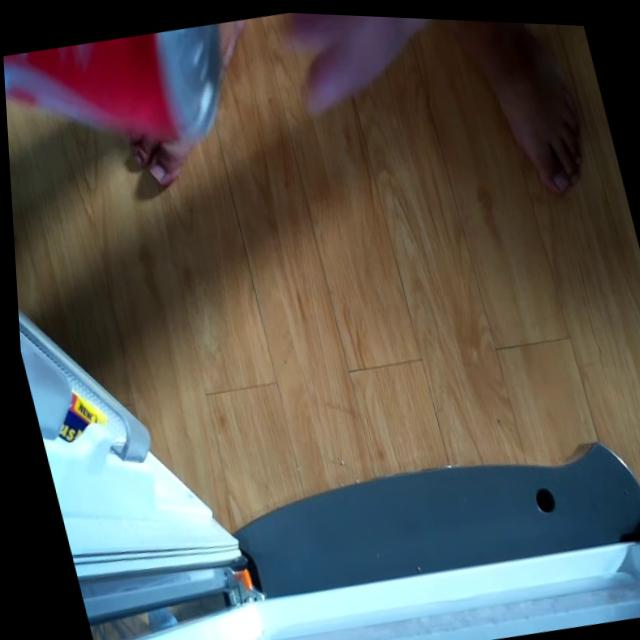coke: (1, 13, 251, 181)
